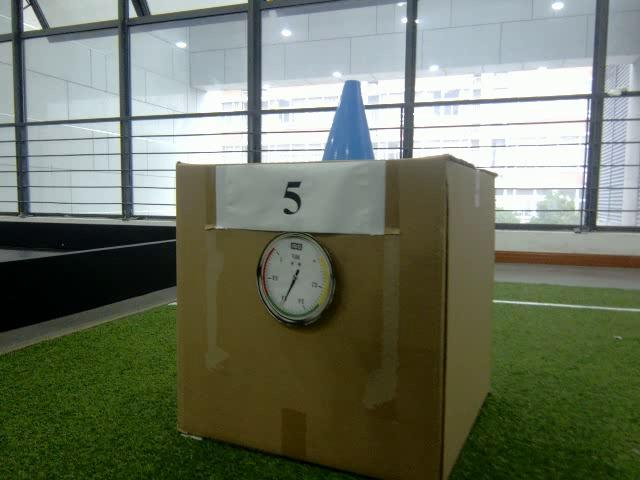5: (276, 177, 306, 218)
Dashboard: (256, 232, 336, 328)
blue_barrel: (320, 79, 373, 160)
ssi: (288, 241, 303, 251)
